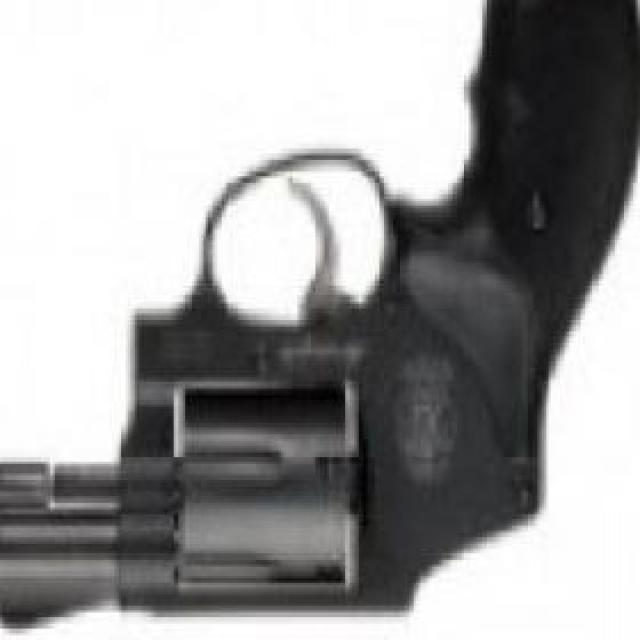pistol: (0, 0, 615, 622)
